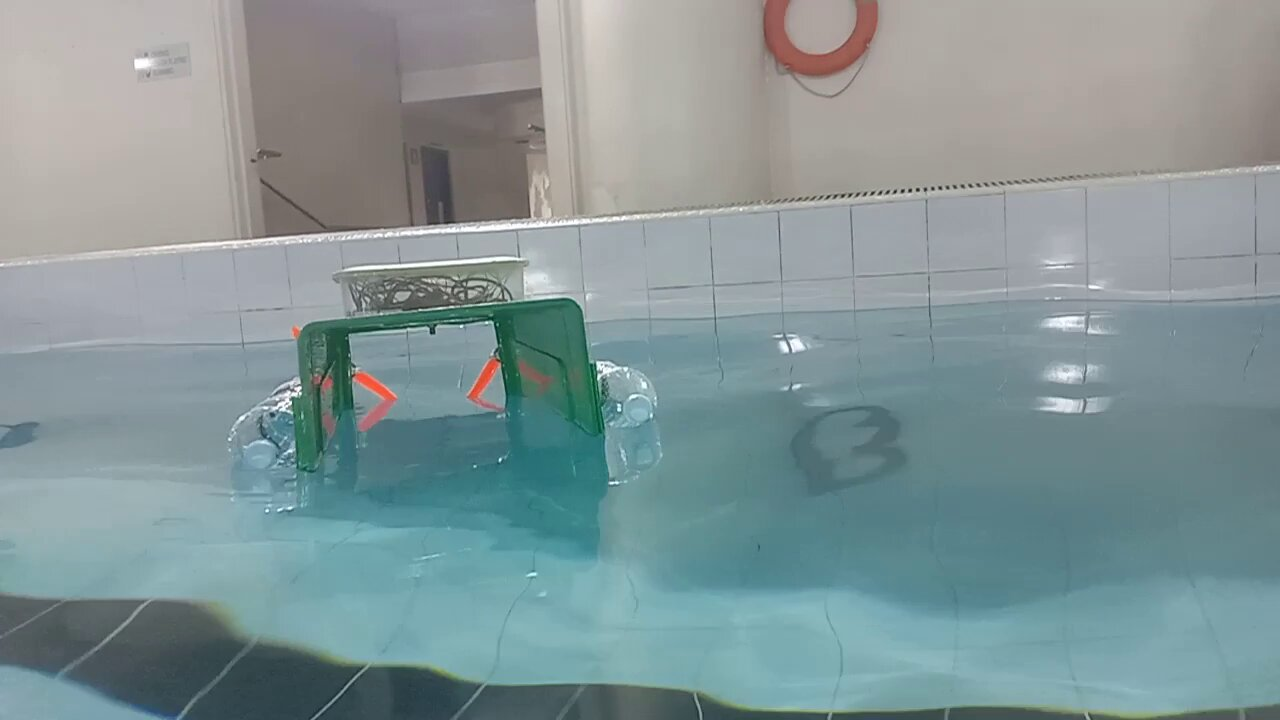drone: (220, 250, 660, 510)
